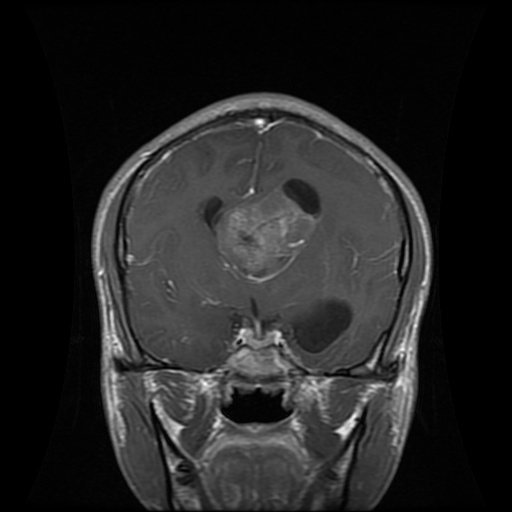glioma: (198, 176, 327, 282)
